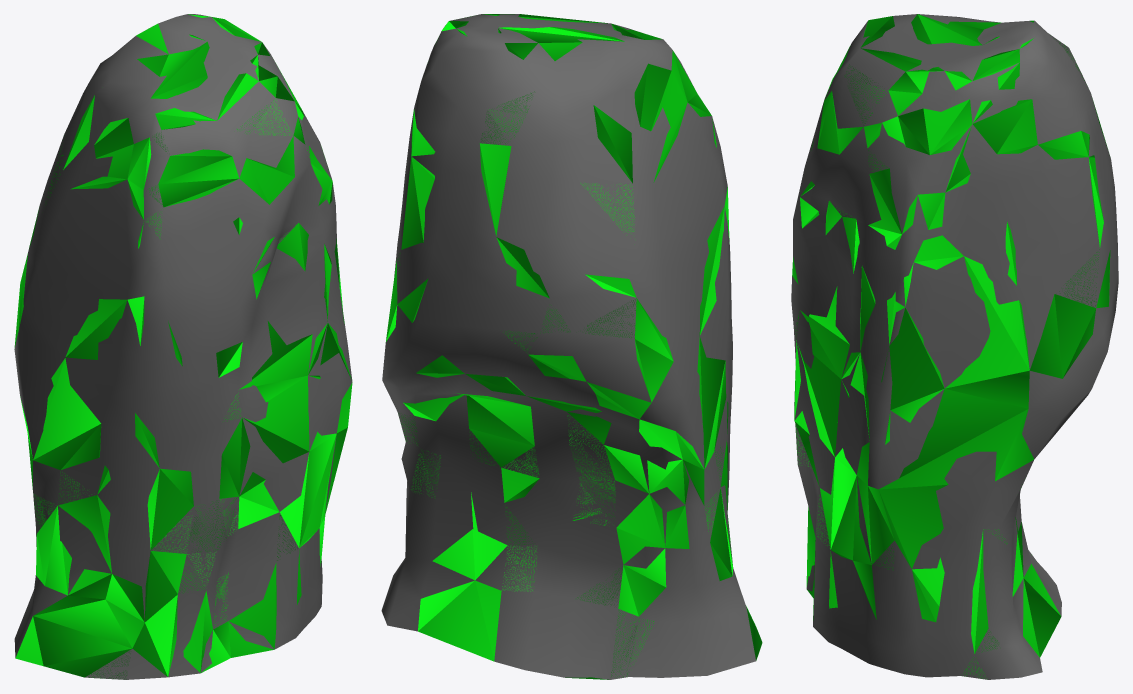
The model's file is Cliff_big_08.fbx.
3 renders of one model, left to right at view 1: azimuth 30°, elevation 25°; view 2: azimuth 150°, elevation 25°; view 3: azimuth 270°, elevation 25°, orthographic. The views are drawn at different scales.
Visible parts, largest first — view 1: Cliff_big_08_LOD0, Cliff_big_08_COL; view 2: Cliff_big_08_LOD0, Cliff_big_08_COL; view 3: Cliff_big_08_LOD0, Cliff_big_08_COL.
Boxes of the visible parts, x1,y1,x2,y2 form: Cliff_big_08_LOD0: (14, 14, 352, 679); Cliff_big_08_COL: (14, 14, 352, 679); Cliff_big_08_LOD0: (381, 14, 755, 679); Cliff_big_08_COL: (385, 14, 762, 679); Cliff_big_08_LOD0: (791, 14, 1118, 679); Cliff_big_08_COL: (792, 14, 1110, 678).
Size of what is drawn, in the model's own units: 40.23 by 34.23 by 69.32.
